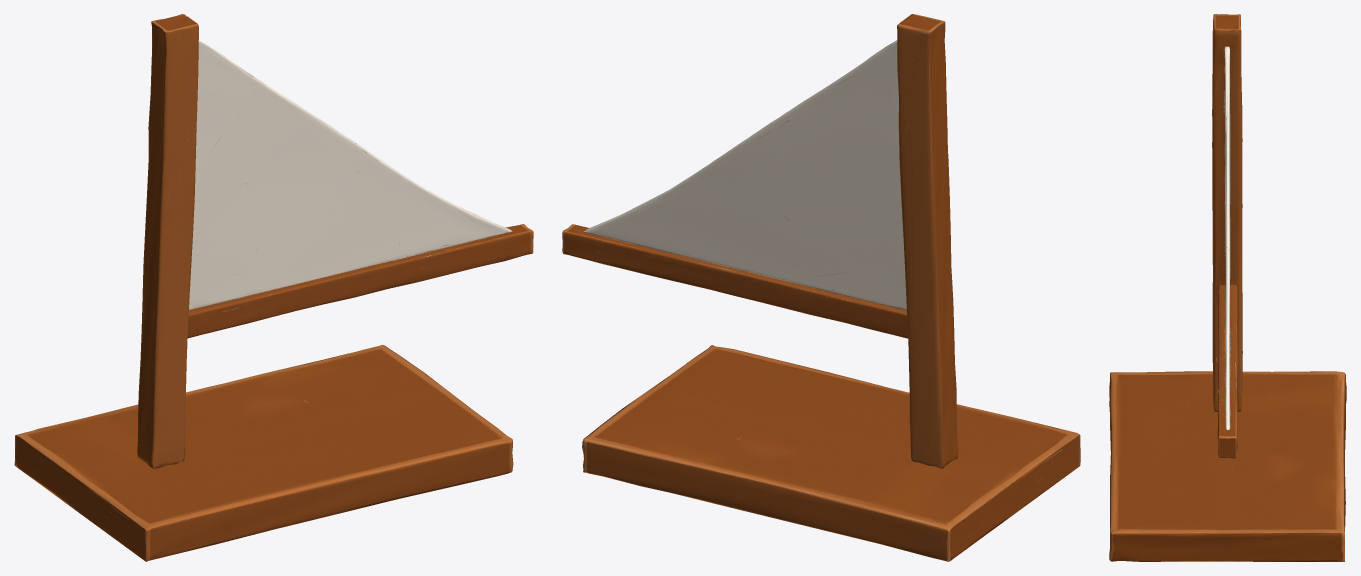
Rendered from sail.glb.
The picture shows the model from 3 angles, left to right: view 1: azimuth 30°, elevation 25°; view 2: azimuth 150°, elevation 25°; view 3: azimuth 270°, elevation 25°; orthographic projection. The views are drawn at different scales.
Size of the model in its own units: 1 by 1 by 0.5117.
Materials: 1 (1 with a texture image).
